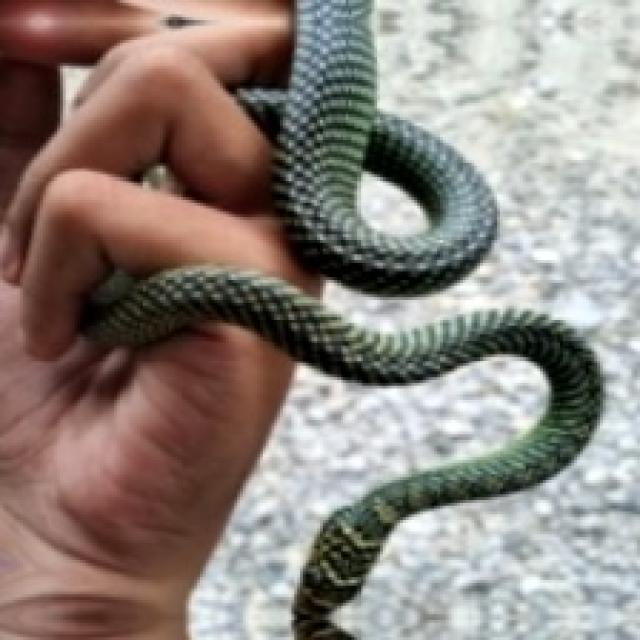paradise tree snake: (326, 0, 637, 637), (329, 0, 637, 637), (191, 357, 543, 637), (191, 360, 537, 637)
